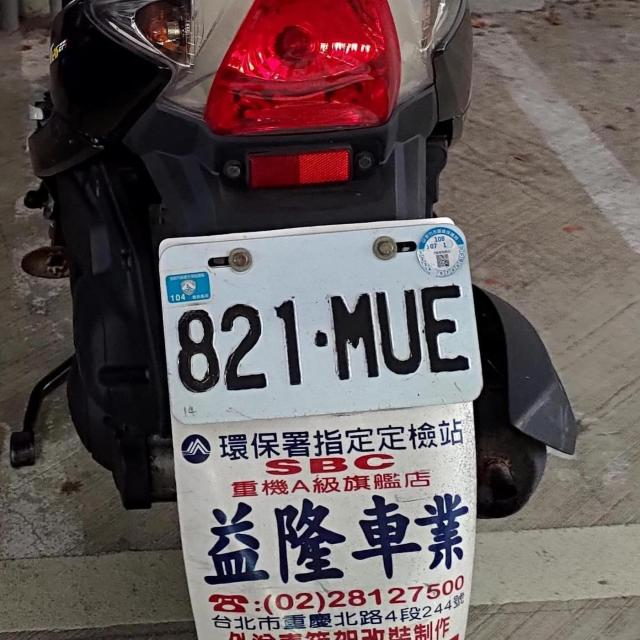W: (153, 220, 486, 423)
